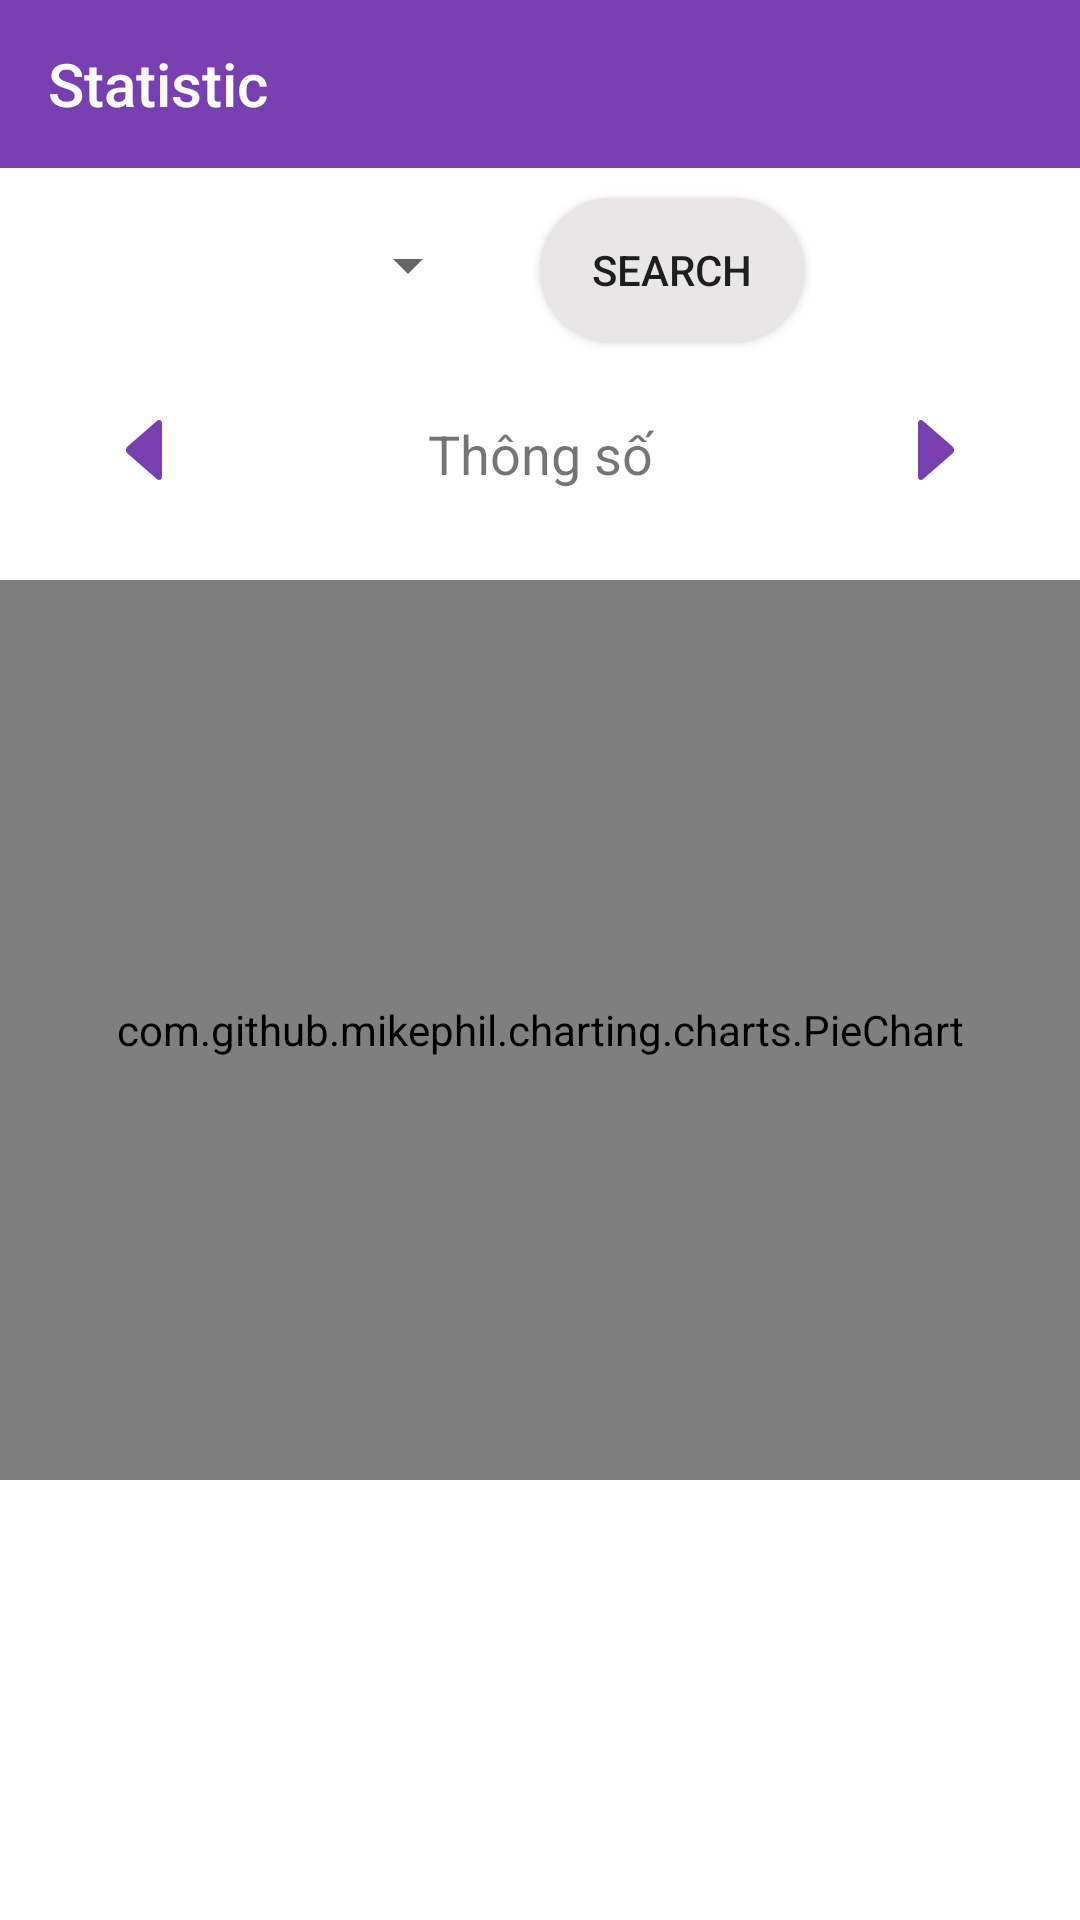

Where to tap for icons on this 1080x1920 app screen, as [x,y]:
arrow left: [144,450]
arrow right: [936,450]
